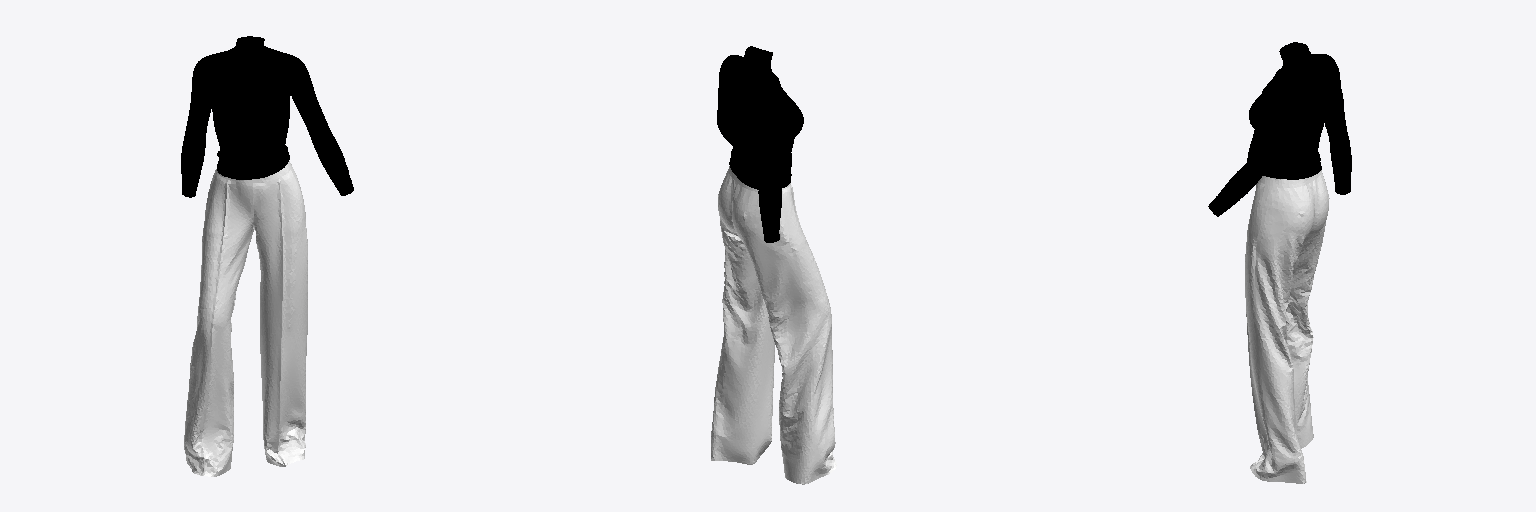
Rendered from DA_HighNeck+WidePants_0000076.obj.
3 views of the same model, side by side, from view 1: azimuth 30°, elevation 25°; view 2: azimuth 150°, elevation 25°; view 3: azimuth 270°, elevation 25° (orthographic).
Size of the model in its own units: 0.5387 by 1.64 by 0.5082.